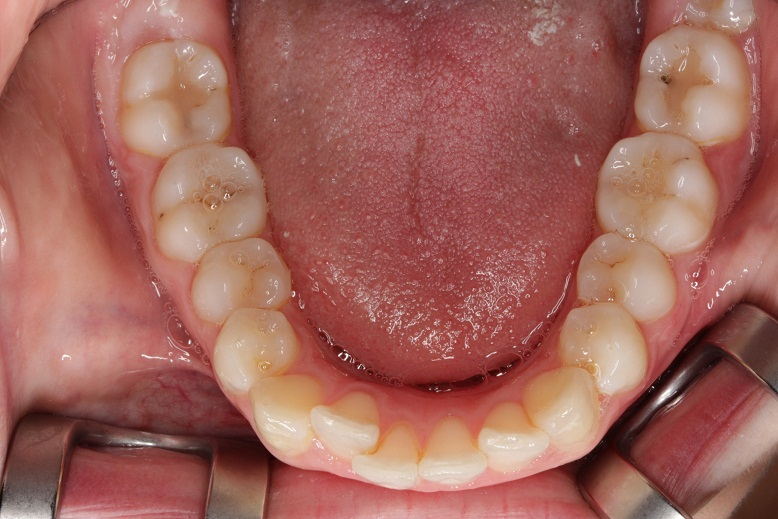LL1BC_healthy: (565, 307, 650, 388)
LL1M_healthy: (600, 134, 717, 246)
LL2BC_healthy: (577, 229, 678, 315)
LL2M_decay: (634, 24, 754, 139)
LLCI_healthy: (419, 417, 489, 487)
LLC_healthy: (527, 366, 597, 443)
LLLI_healthy: (479, 404, 547, 470)
LR1BC_healthy: (217, 310, 295, 386)
LR1M_decay: (152, 145, 267, 242)
LR2BC_healthy: (193, 240, 291, 318)
LR2M_healthy: (124, 42, 232, 145)
LRCI_healthy: (373, 417, 419, 485)
LRC_healthy: (259, 374, 322, 451)
LRLI_healthy: (320, 390, 376, 461)
